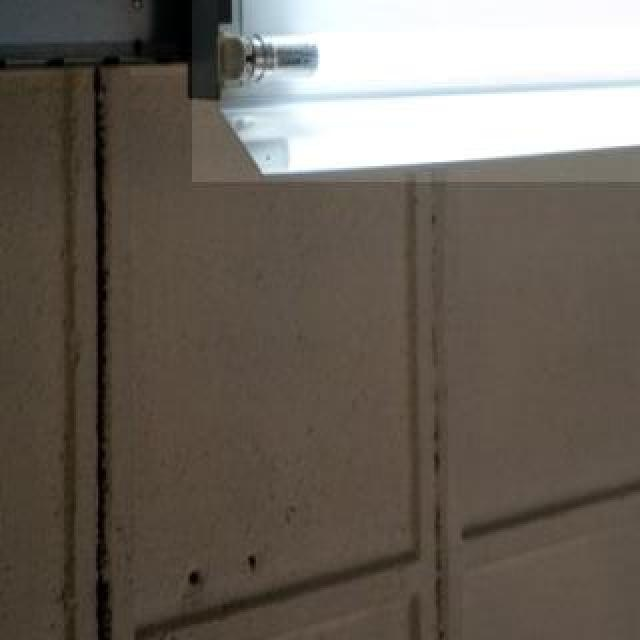fluorescent tube: (178, 8, 640, 118)
